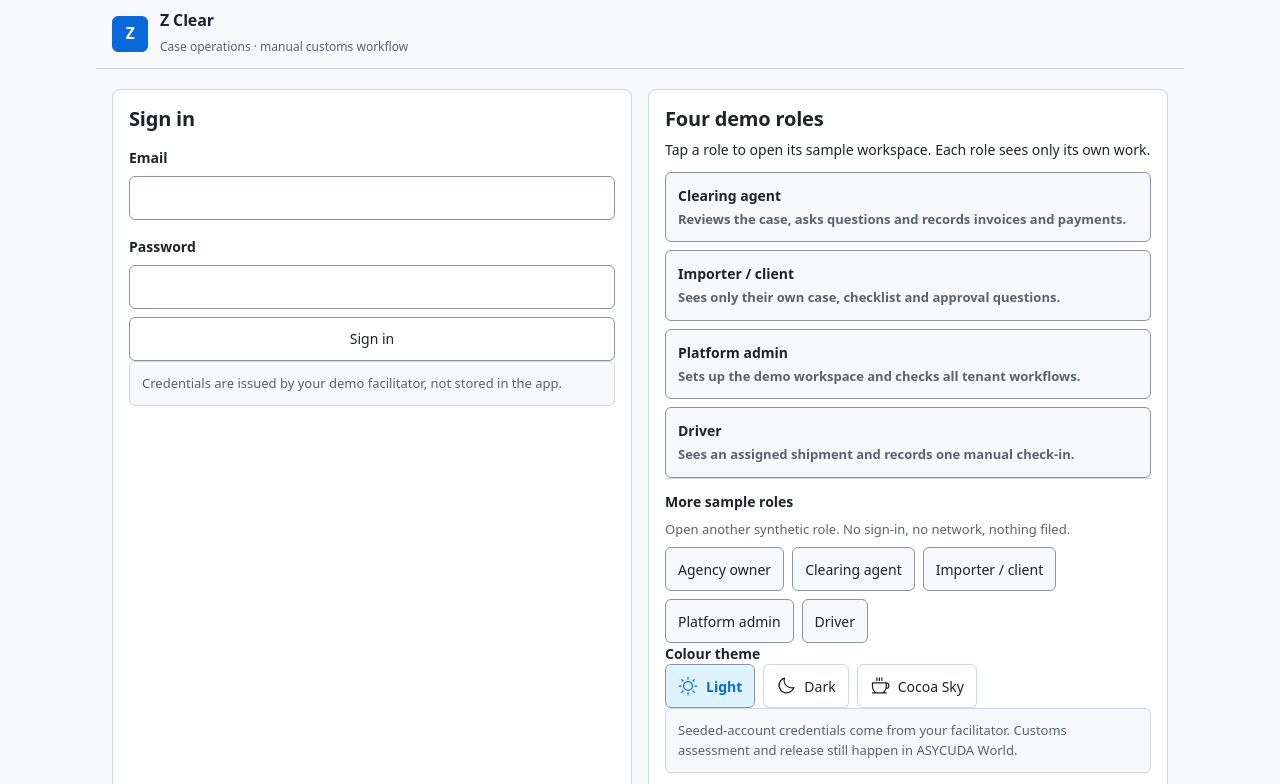
Test: App › does not show invoices to the driver role
Step 1. Type "agent@example.com" into the field labelled "Email" → x=372, y=198, box [129,176,615,220]
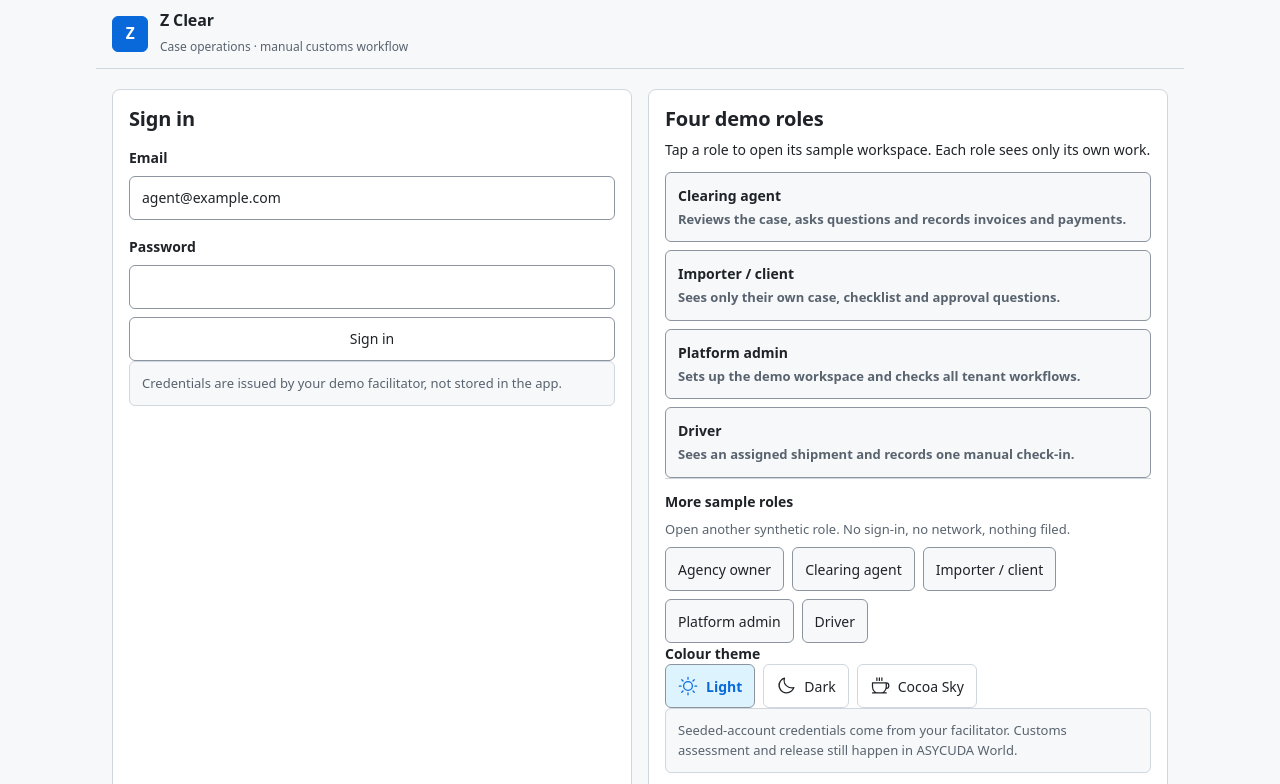
Step 2. Type "demo-password" into the password field labelled "Password" → x=372, y=287, box [129,265,615,309]
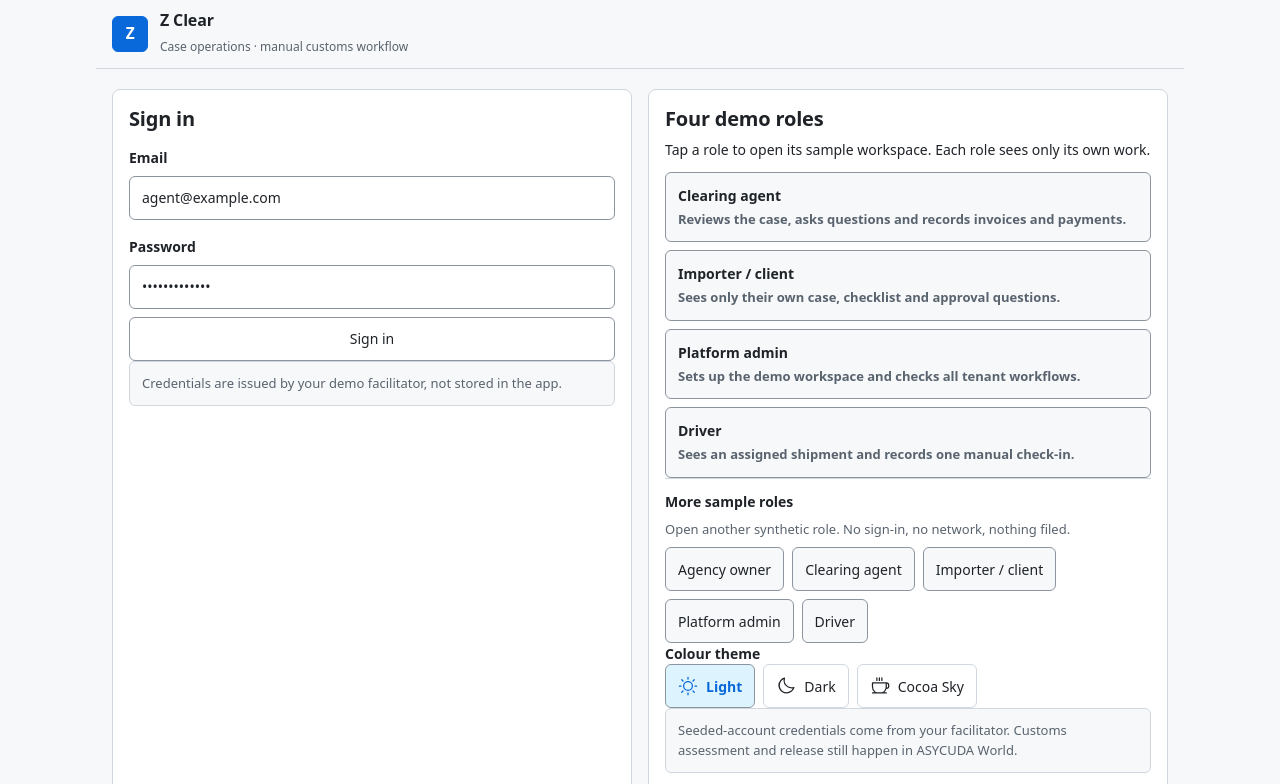
Step 3. Click the button "Sign in" → x=372, y=339, box [129,317,615,361]
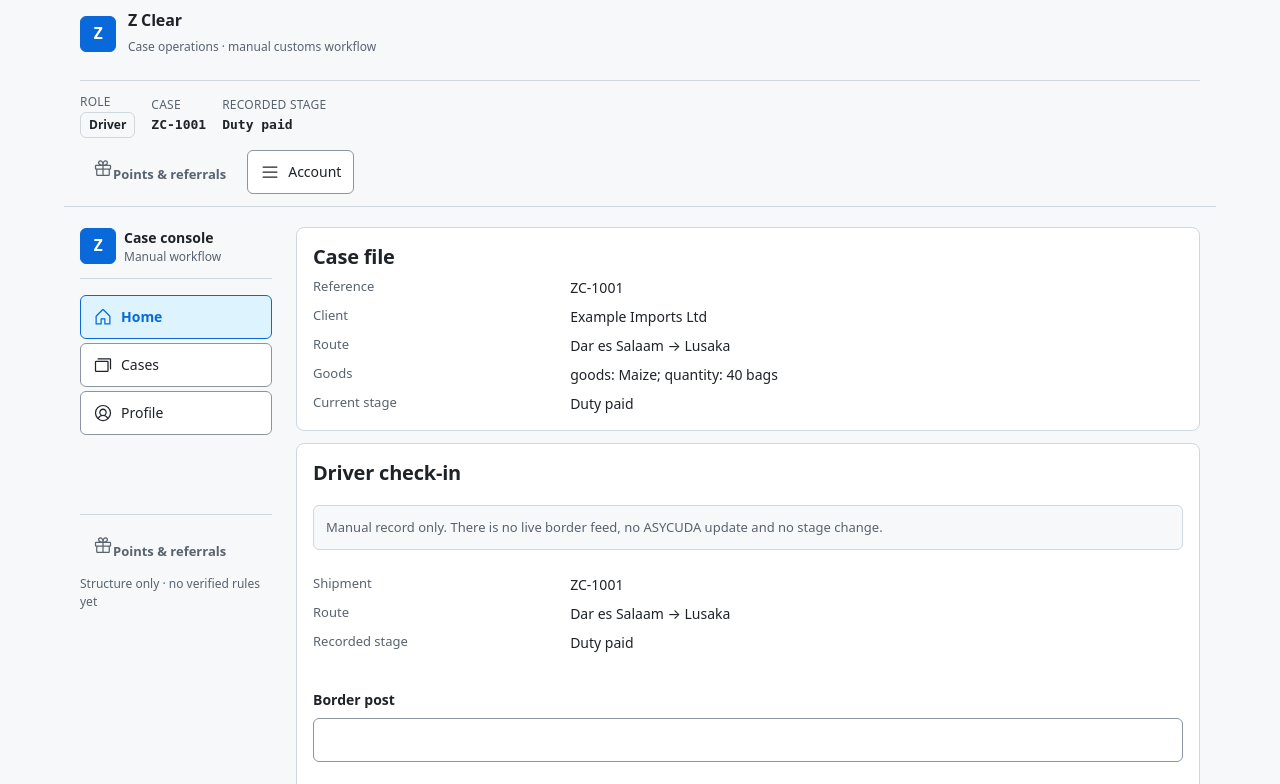
expect the text with test id "case-reference" is shown: met, box [570,278,623,297]
